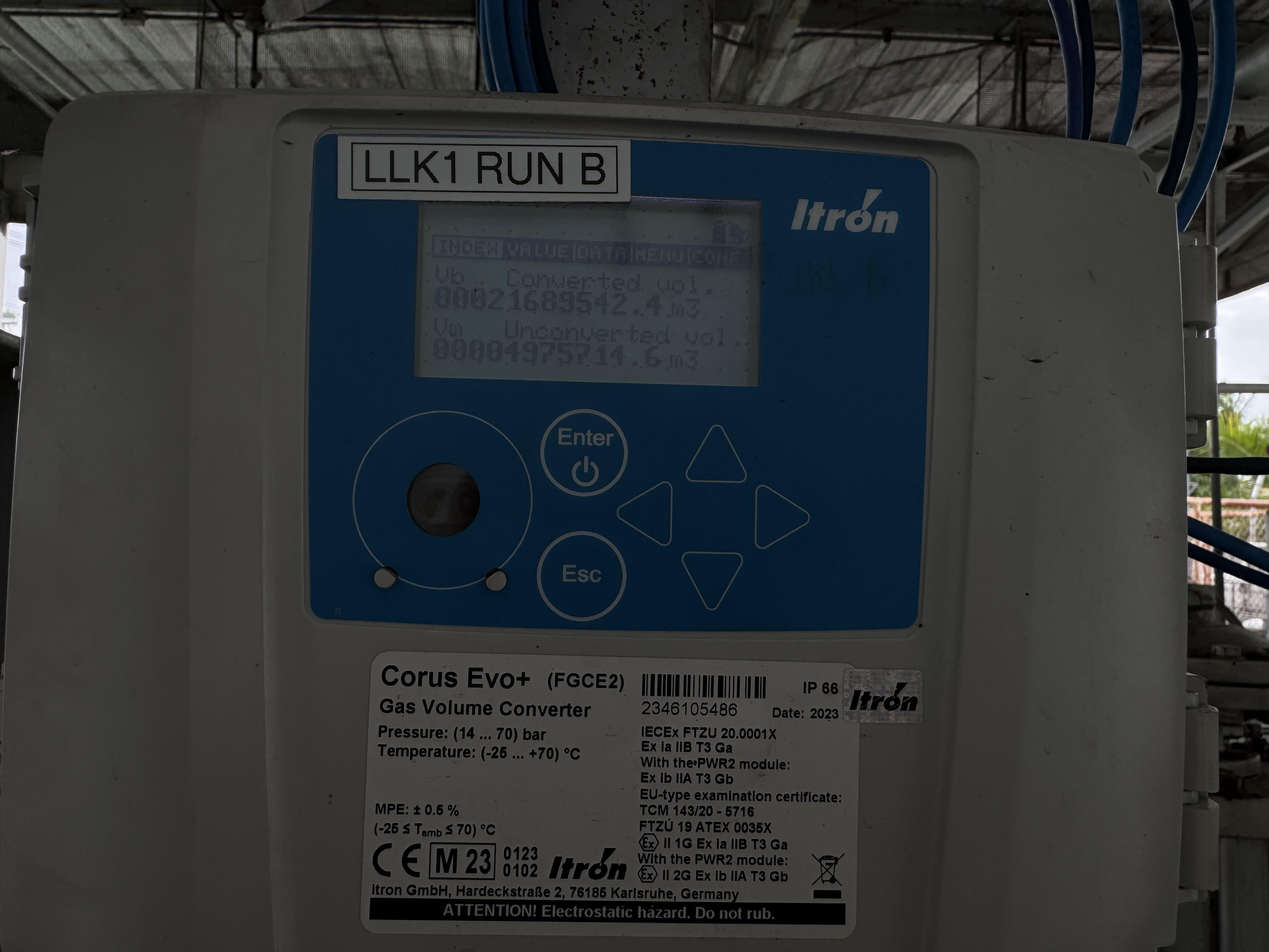digital_screen: (414, 189, 766, 386)
